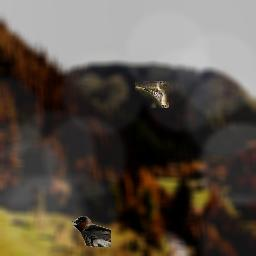Cuckoo: (135, 81, 169, 108)
Swallow: (71, 216, 111, 247)
